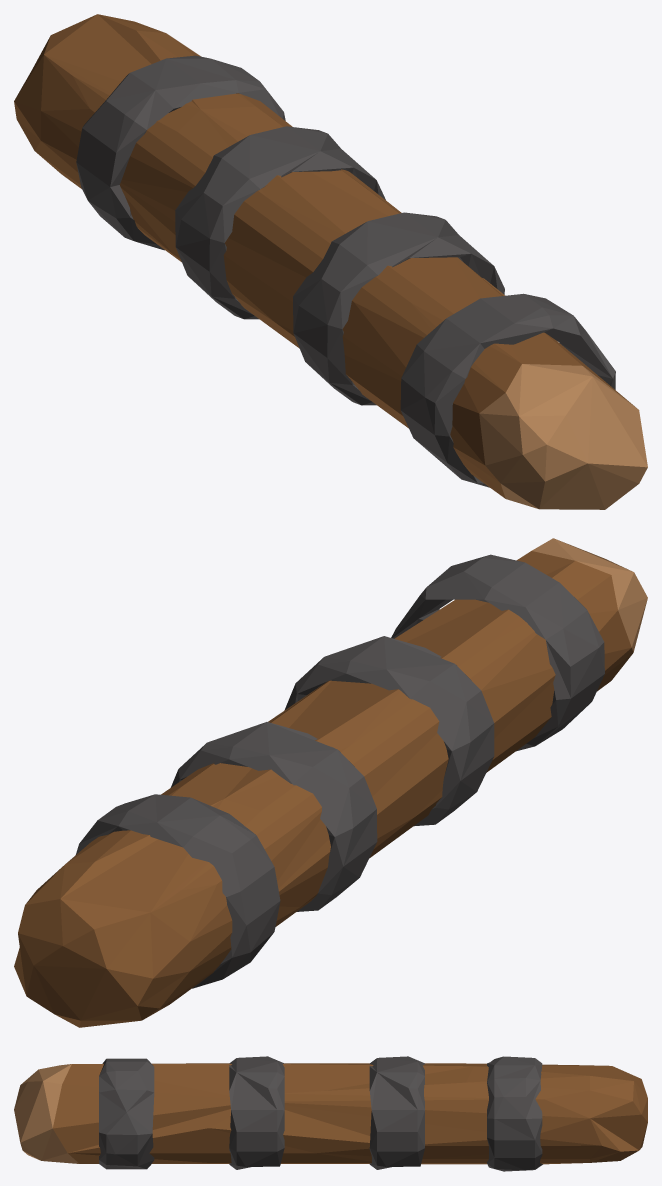
Rendered from LPSWP_Ram02.fbx.
3 renders of one model, top to bottom at view 1: azimuth 30°, elevation 25°; view 2: azimuth 150°, elevation 25°; view 3: azimuth 270°, elevation 25°, orthographic. The views are drawn at different scales.
Visible parts, largest first — view 1: LPSWP_Ram02; view 2: LPSWP_Ram02; view 3: LPSWP_Ram02.
Boxes of the visible parts, left/top/right/bottom form: LPSWP_Ram02: left=14, top=14, right=647, bottom=509; LPSWP_Ram02: left=14, top=538, right=647, bottom=1027; LPSWP_Ram02: left=14, top=1056, right=647, bottom=1171.
Size of the model in its own units: 0.6466 by 0.5607 by 3.21.
